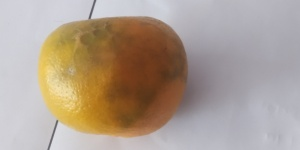BAD: (35, 17, 190, 141)
